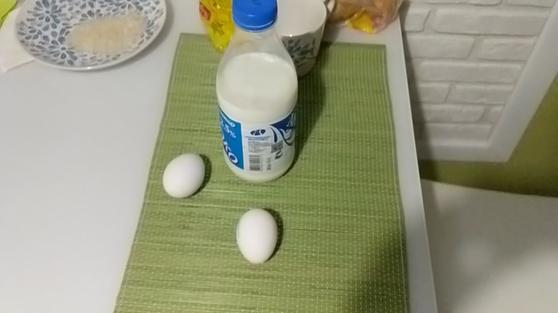egg: (234, 206, 286, 267), (158, 151, 210, 205)
milk: (206, 1, 306, 185)
rice: (56, 10, 155, 61)
